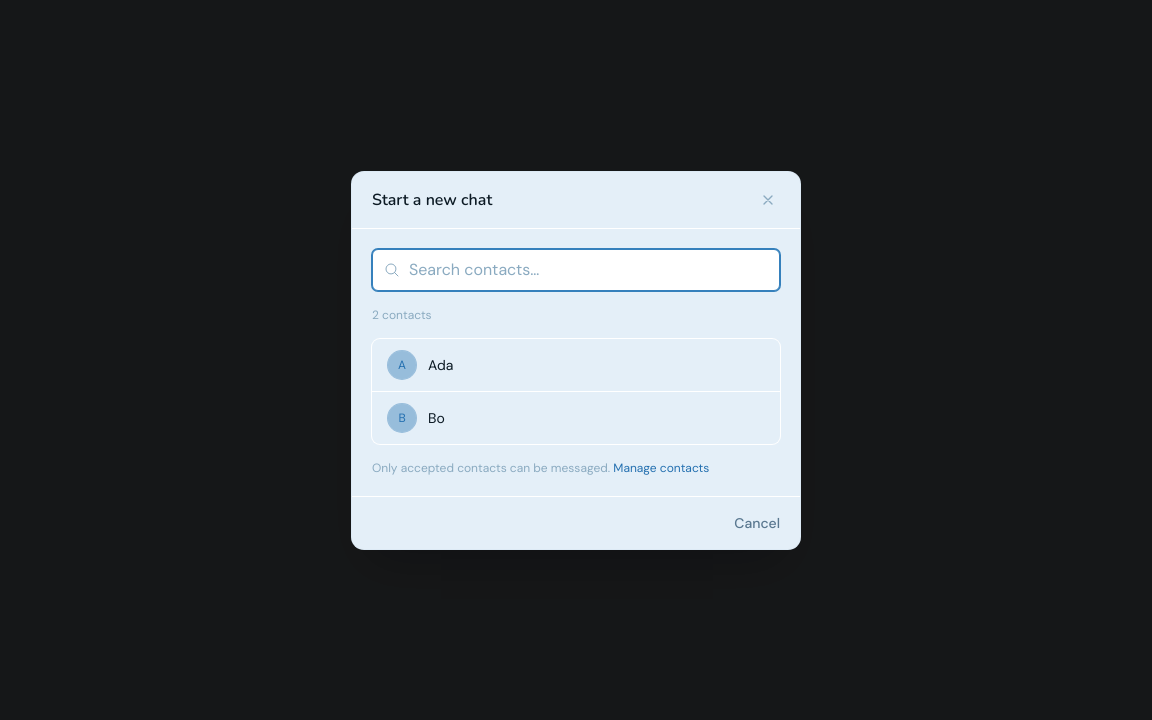
Test: NewChatModal › filters contacts by the search query
Expected: the text "Ada" is shown, [428,356,453,374]
Type "bo" into the search field labelled "Search contacts…" at (576, 270), box [372,248,780,290]
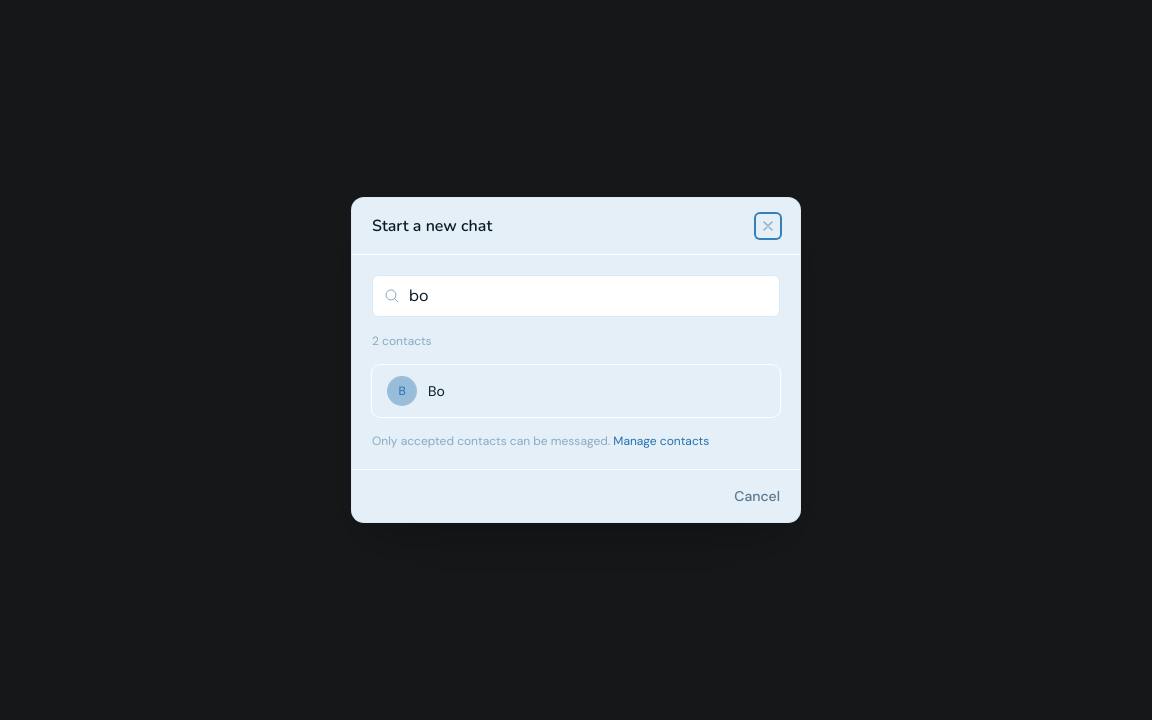
Expected: the text "Bo" is shown, [428,382,445,400]
Result: the button "Ada" is gone
